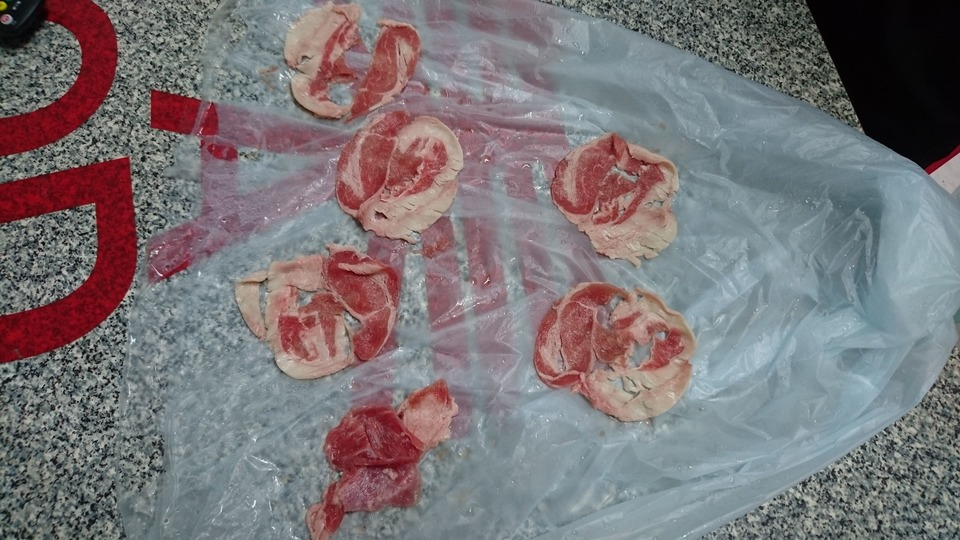restructured meat: (527, 275, 702, 425), (290, 382, 465, 532), (233, 253, 407, 382), (549, 131, 682, 260), (325, 110, 458, 239), (274, 8, 427, 119)
